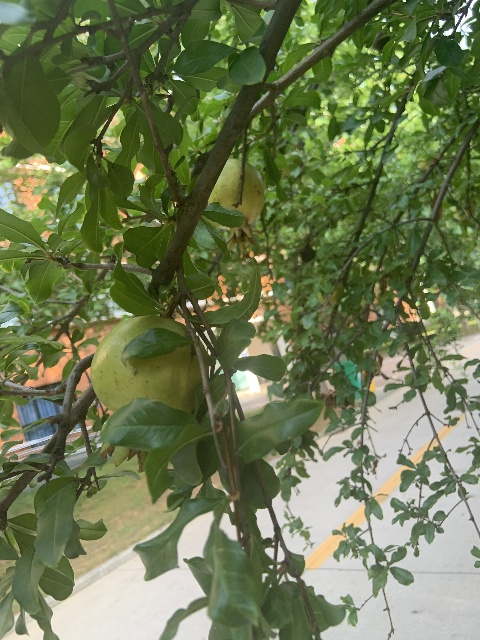mid-growth: (89, 316, 205, 473), (207, 158, 265, 256)
